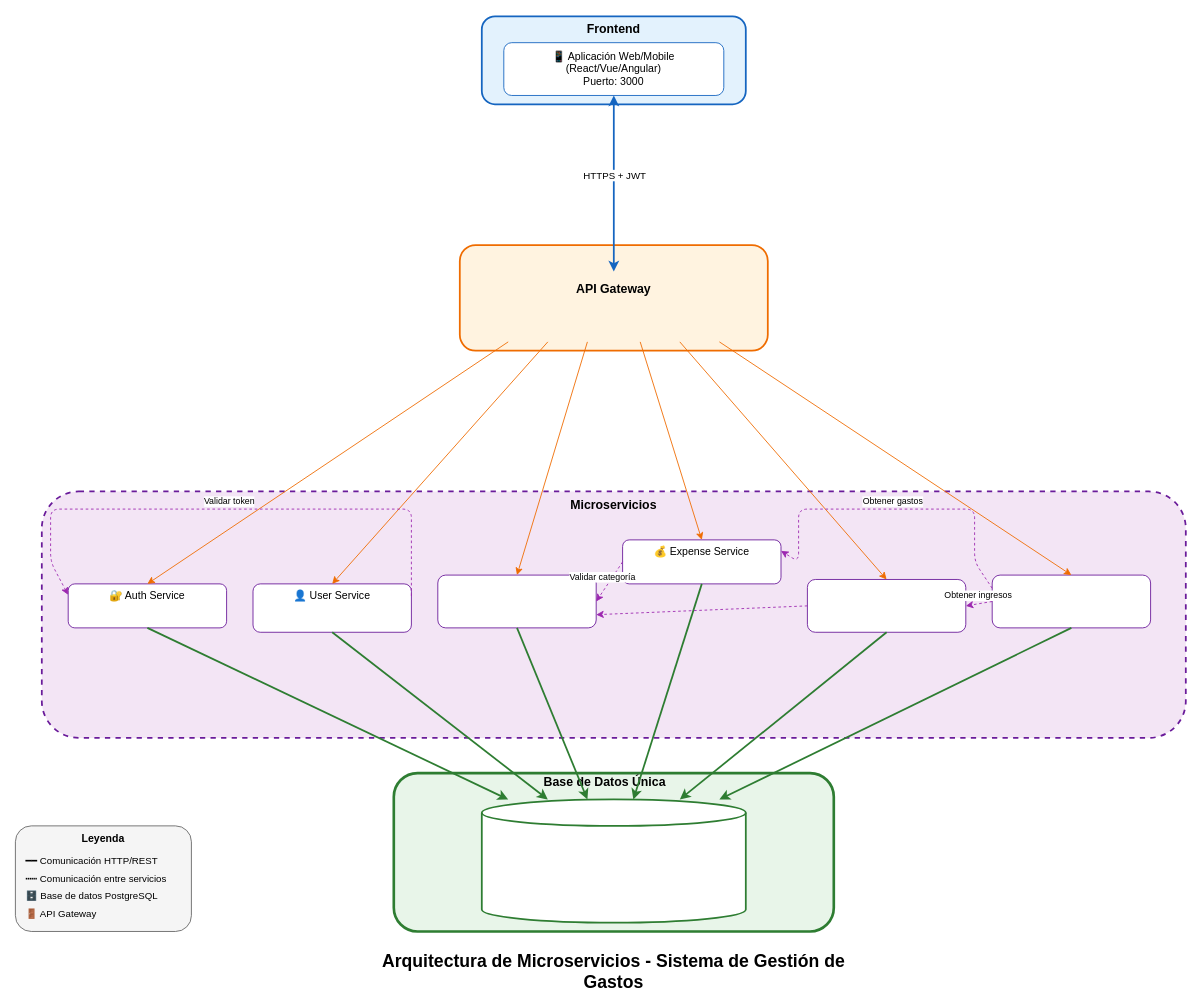
The diagram is 1202 pixels wide and 1007 high, and some of its shapes have lost their labels. The shapes that lost their labels are listed below. From the top down, each one's centre as x and y in pixels, then its label:
At pixel 516 601: "📁 Category Service".
At pixel 886 605: "💵 Income Service".
At pixel 1071 601: "📊 Report Service".
